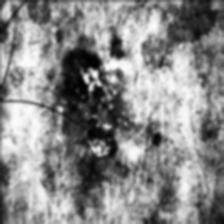Potentially Malignant Skin Tumors: (41, 34, 136, 194)
